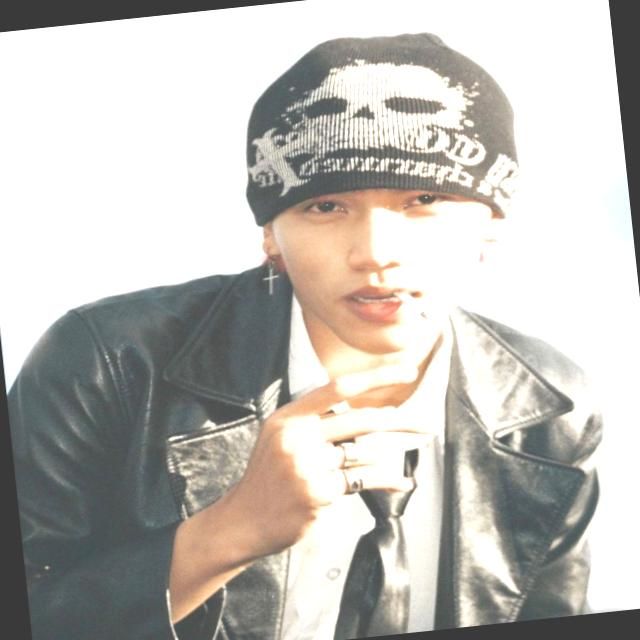cigarette: (388, 268, 442, 329)
